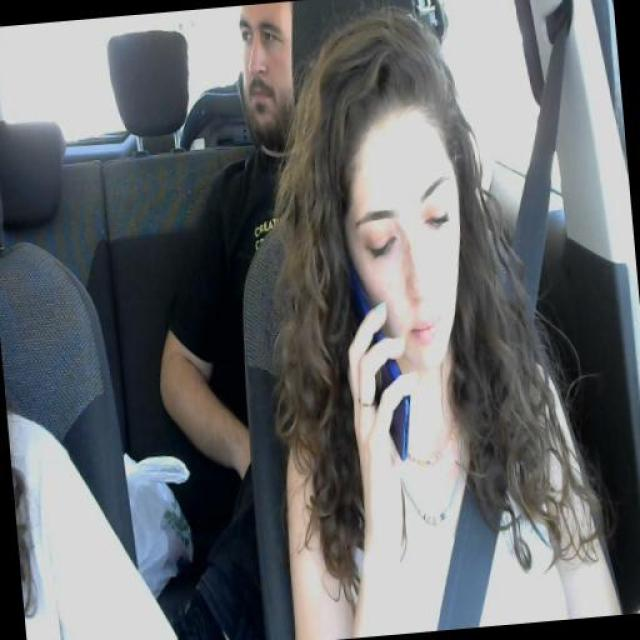phone: (336, 252, 409, 462)
